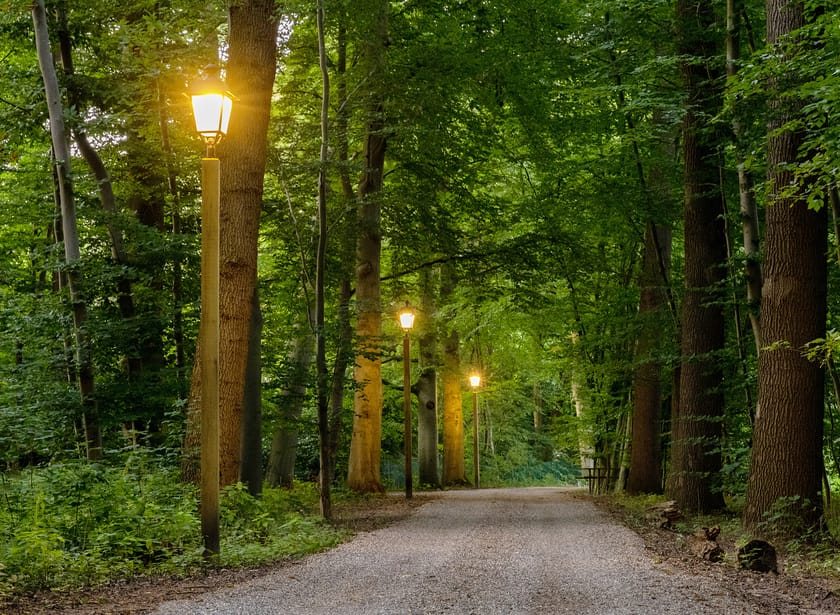light_pole: (185, 81, 234, 568), (392, 303, 418, 496), (466, 365, 486, 488)
